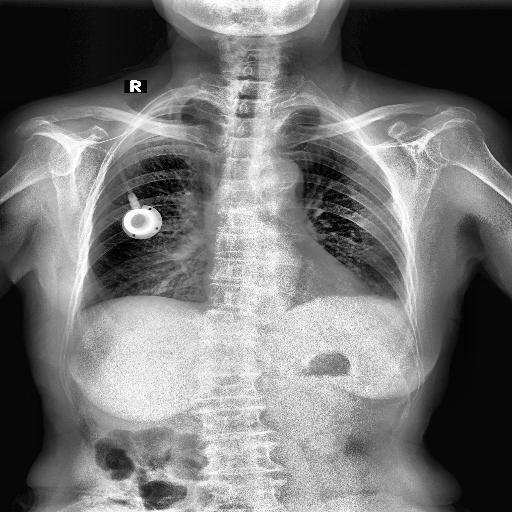0- Aortic enlargement: (252, 159, 304, 199), (252, 158, 304, 192)
10- Pleural effusion: (390, 296, 410, 324), (400, 298, 416, 324)
11- Pleural thickening: (390, 296, 410, 324), (400, 298, 416, 324)
